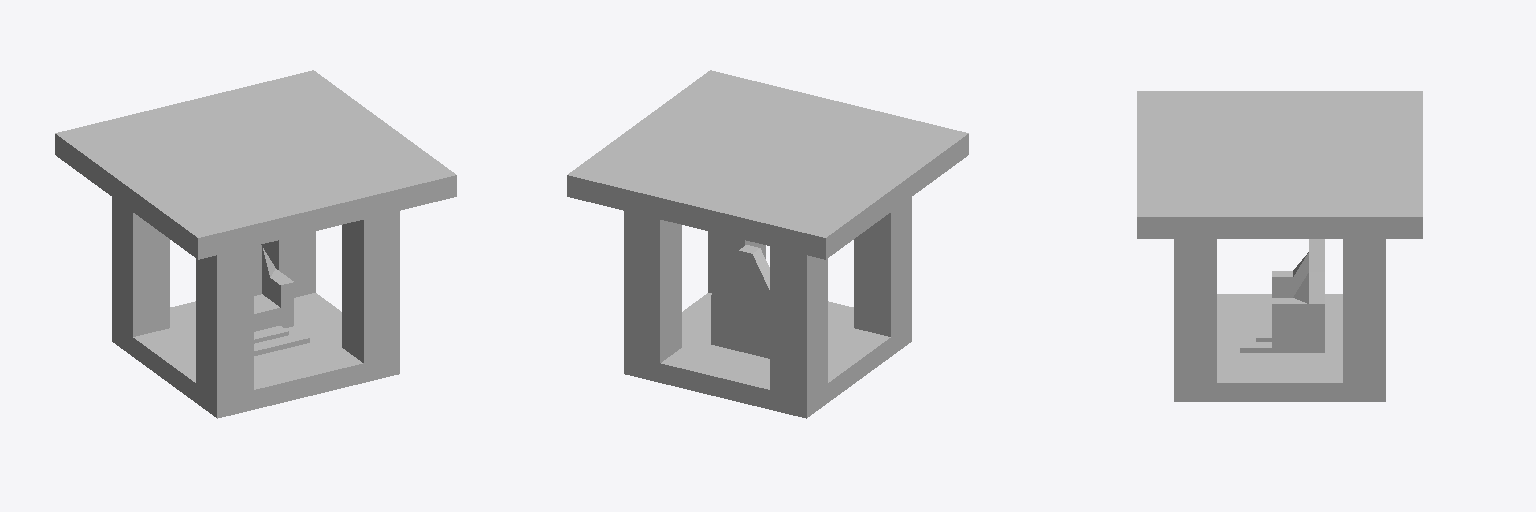
Rendered from throne.obj.
The picture shows the model from 3 angles: view 1: azimuth 30°, elevation 25°; view 2: azimuth 150°, elevation 25°; view 3: azimuth 270°, elevation 25°; orthographic projection.
Visible parts, largest first — view 1: pCube3, pCube2, pCube1; view 2: pCube3, pCube2, pCube1; view 3: pCube3, pCube2, pCube1.
Part boxes in pixels (bbox=[...]): pCube3: bbox=[55, 70, 456, 259]; pCube2: bbox=[112, 197, 399, 418]; pCube1: bbox=[254, 245, 309, 355]; pCube3: bbox=[567, 70, 968, 259]; pCube2: bbox=[624, 197, 911, 418]; pCube1: bbox=[711, 245, 769, 358]; pCube3: bbox=[1137, 91, 1422, 238]; pCube2: bbox=[1174, 239, 1385, 401]; pCube1: bbox=[1240, 239, 1324, 352].
Bounding box in the file's own units: 20.12 × 15.13 × 19.29.